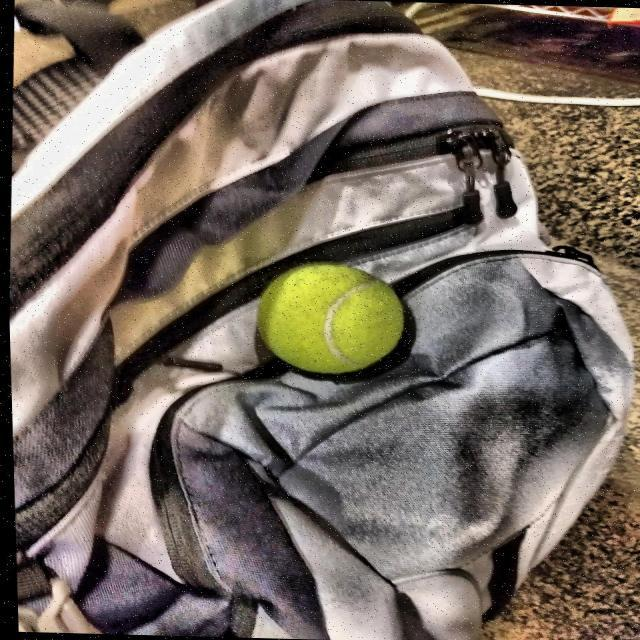tennis-ball: (238, 256, 423, 384)
